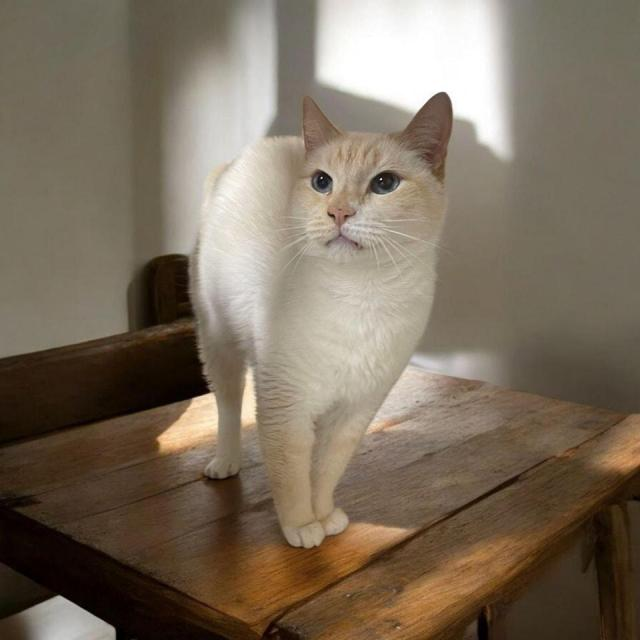manx_cat: (275, 78, 461, 285)
